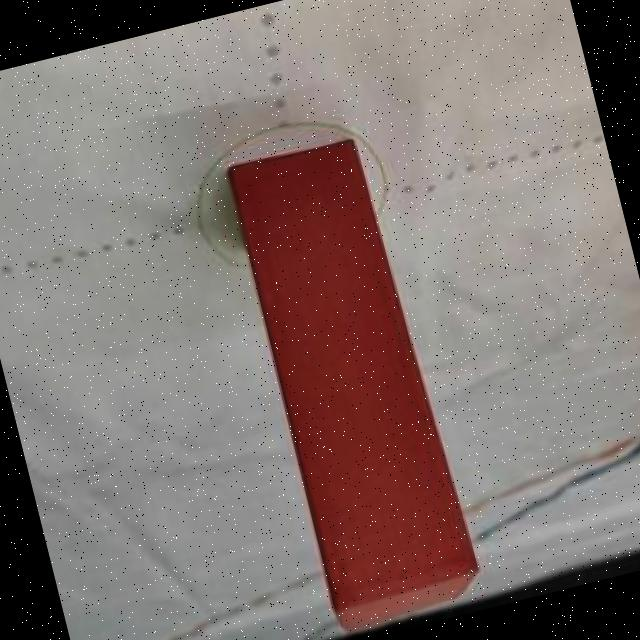redbox: (222, 133, 489, 640)
